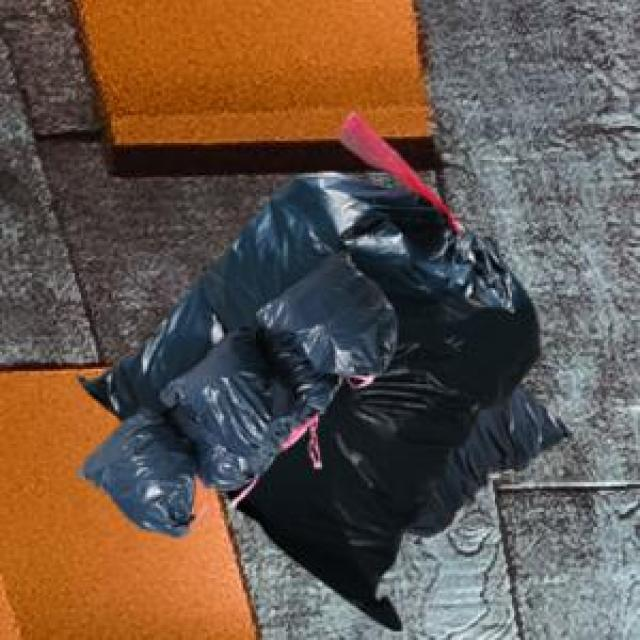Trashbag: (252, 250, 406, 384), (78, 410, 198, 541), (175, 338, 286, 454)
